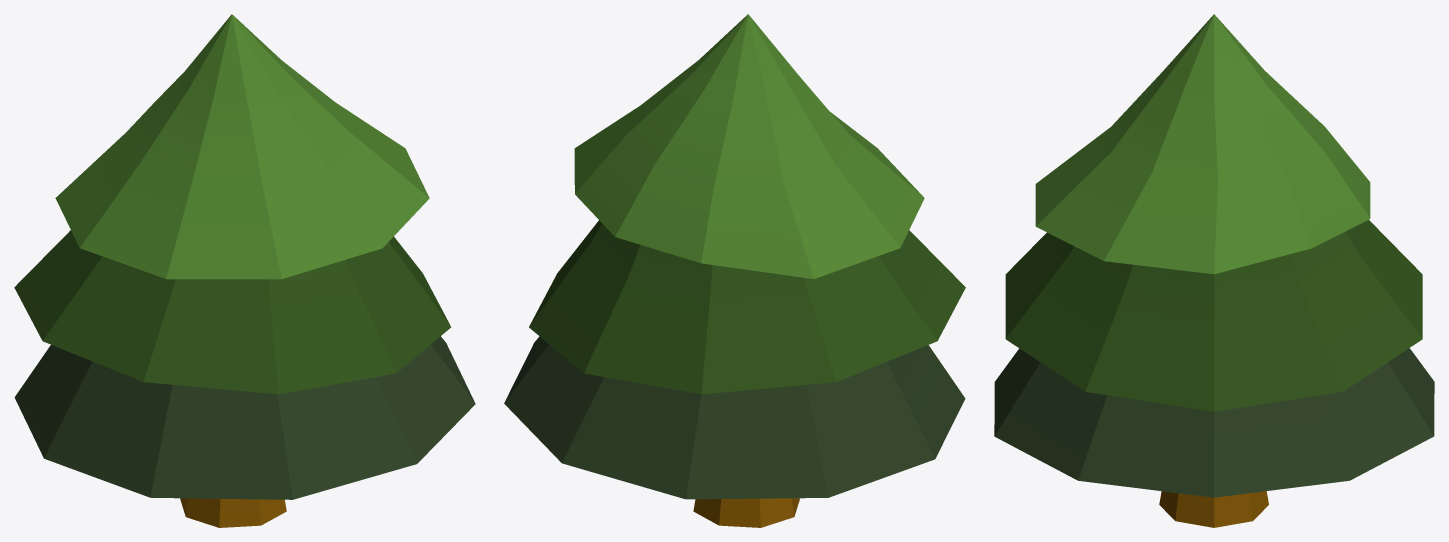
Rendered from Tree_04.fbx.
The picture shows the model from 3 angles, left to right: view 1: azimuth 30°, elevation 25°; view 2: azimuth 150°, elevation 25°; view 3: azimuth 270°, elevation 25°; orthographic projection.
Visible parts, largest first — view 1: Tree2_Trunk1; view 2: Tree2_Trunk1; view 3: Tree2_Trunk1.
Part boxes in pixels (box(x1,y1,x2,y2)): Tree2_Trunk1: box(14, 14, 475, 527); Tree2_Trunk1: box(504, 14, 965, 527); Tree2_Trunk1: box(994, 14, 1434, 527).
Bounding box in the file's own units: 767 × 894 × 728.
